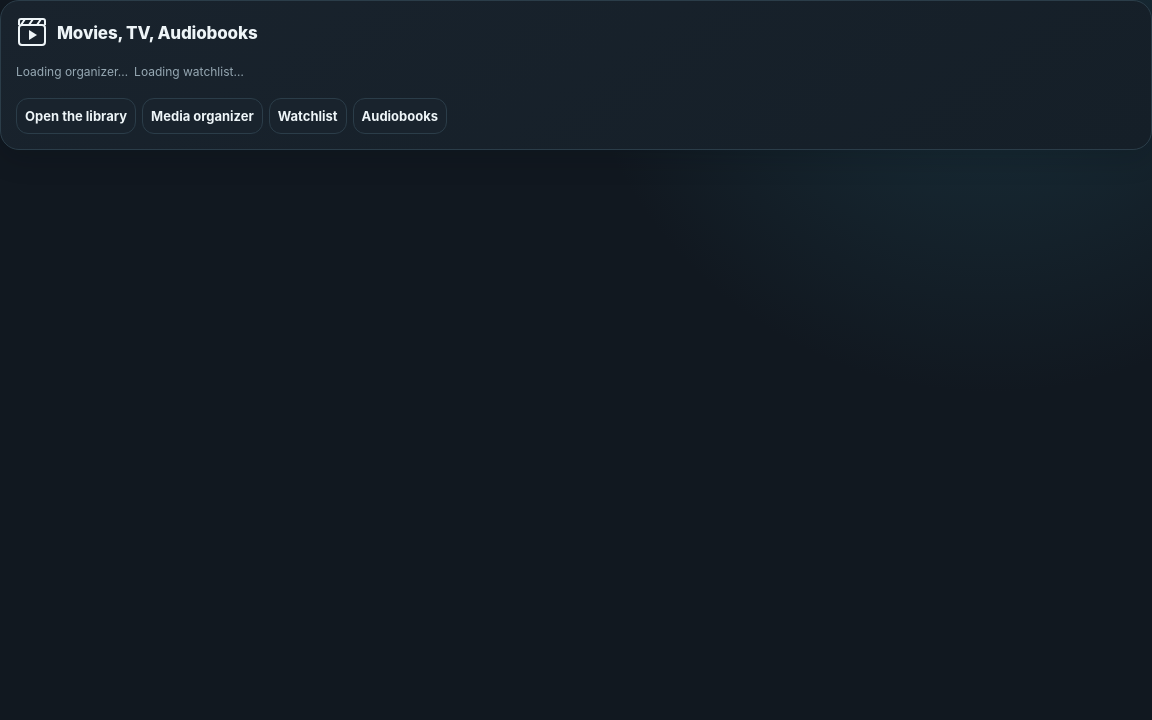
Test: organizer loading state › does not claim there is no plan while the status is still loading
The image size is (1152, 720).
Click the button "Media organizer".
click(202, 116)  # box [142,98,263,134]
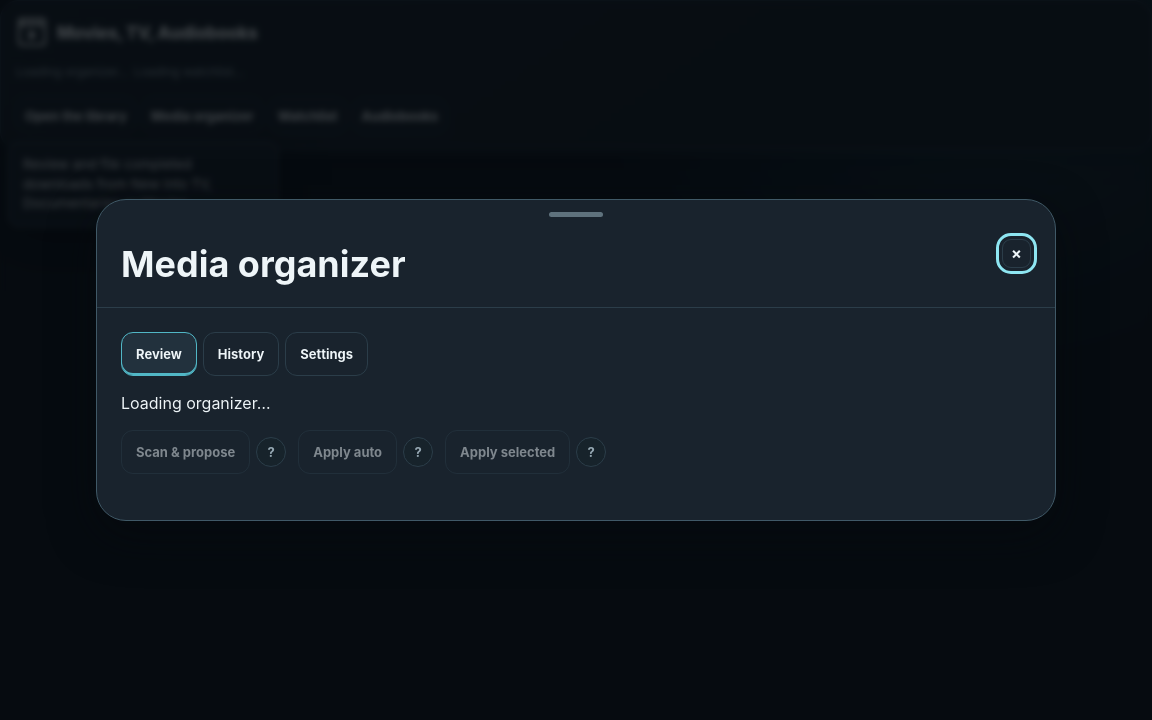
expect the text "Loading organizer…" is shown: met, box [121,393,270,413]
